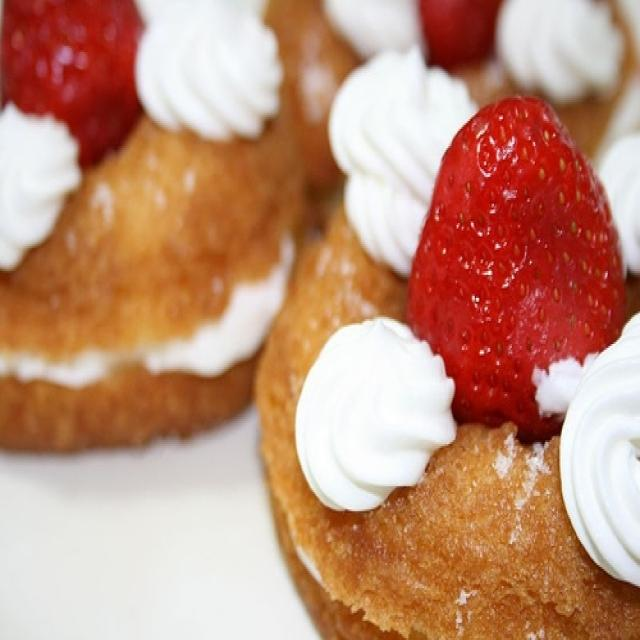炸货点心: (13, 15, 630, 617)
